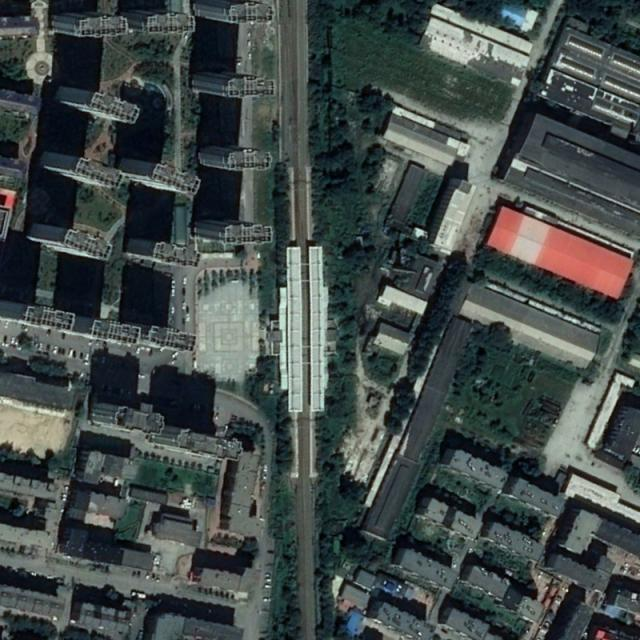vehicle: (130, 590, 146, 598)
